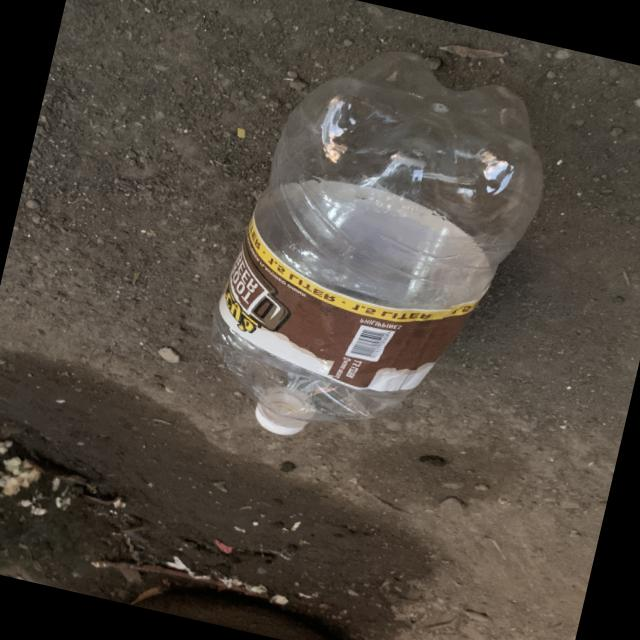Bottle: (210, 52, 542, 434)
